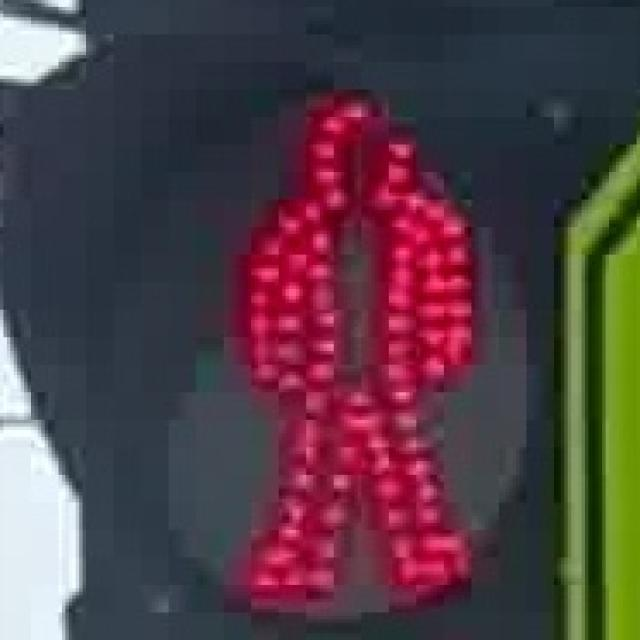red-crossing: (200, 55, 496, 626)
